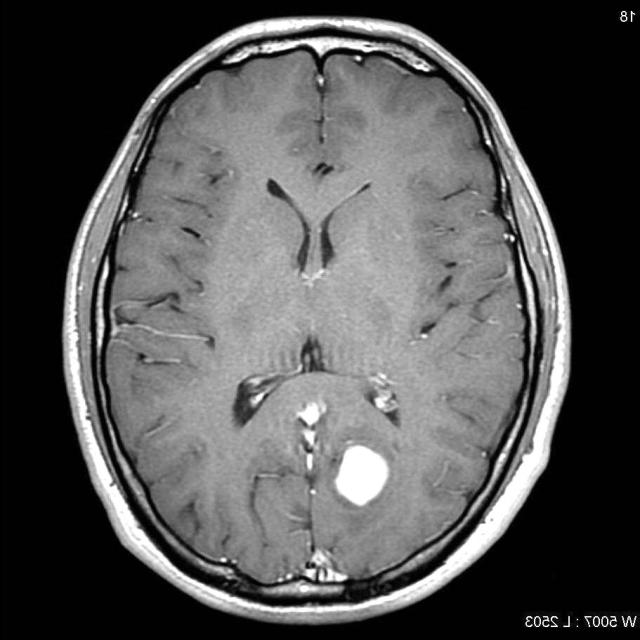Tumor-Cell: (322, 436, 383, 516)
